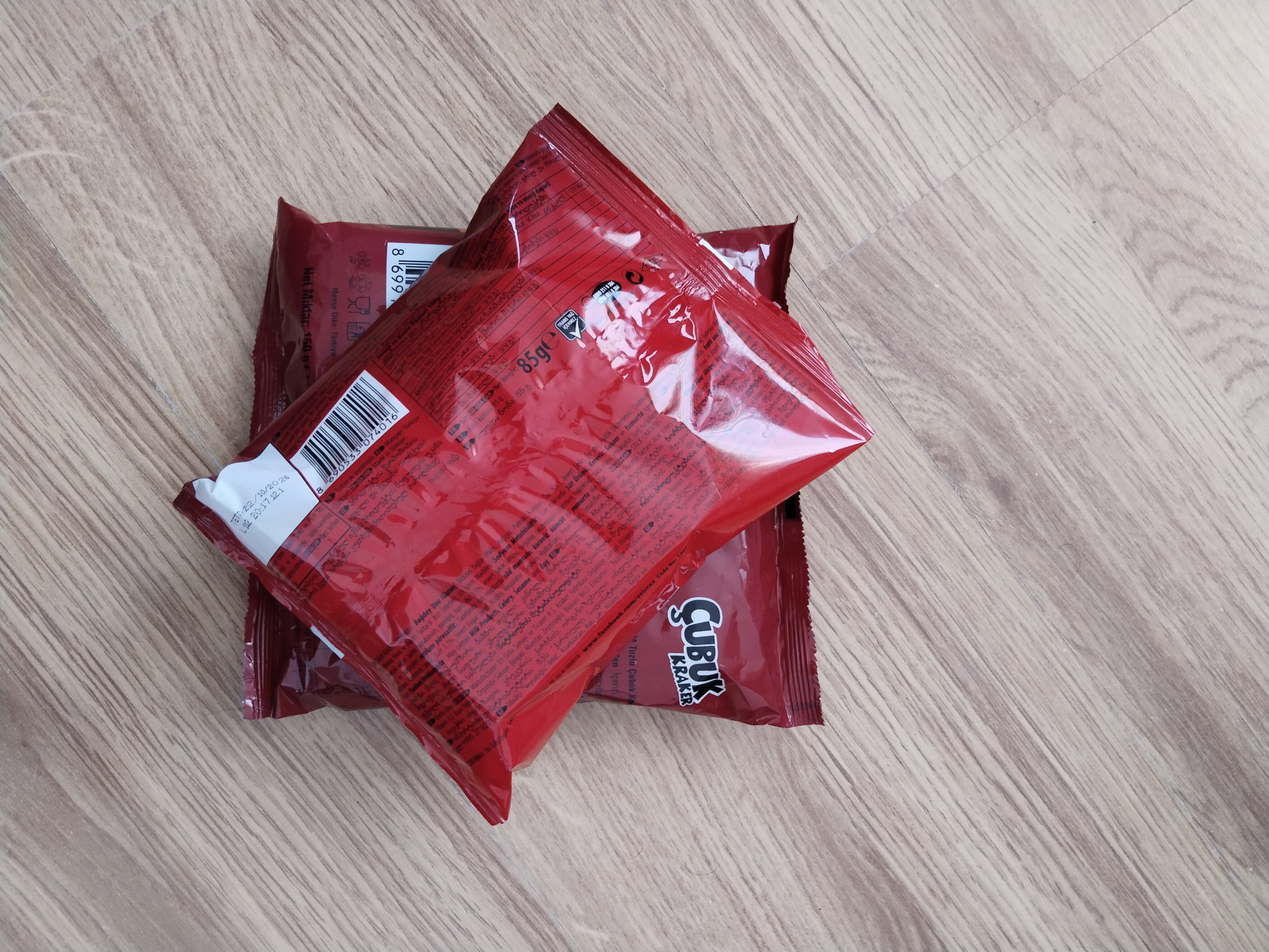citkirildim_cubuk_kraker: (587, 492, 823, 726)
eti_crax_cubuk_kraker: (174, 103, 879, 830)
